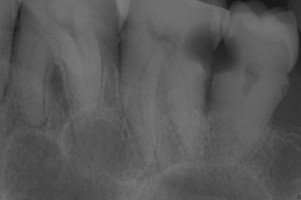Endo-Periodontal Lesion: (47, 63, 67, 103)
